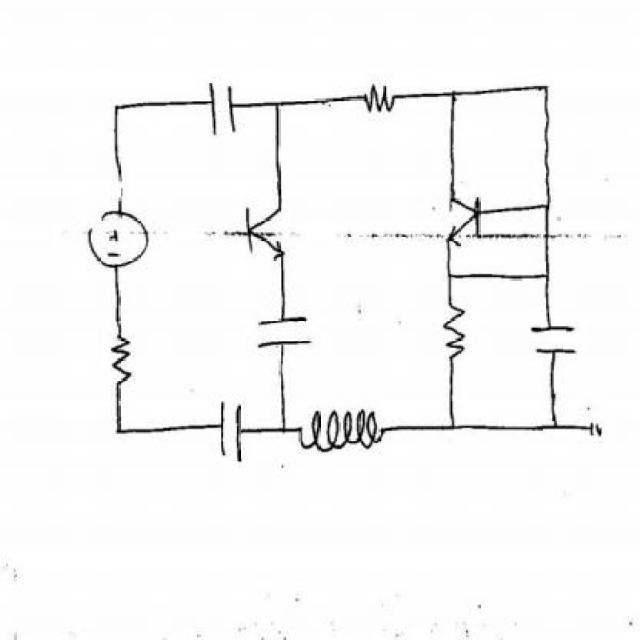capacitor: (203, 396, 257, 464), (528, 308, 584, 371), (203, 76, 245, 146), (249, 310, 318, 352)
ground: (581, 412, 608, 460)
inductor: (295, 398, 396, 458)
resistor: (432, 300, 476, 378), (346, 76, 405, 124), (102, 328, 145, 391)
transistor: (434, 181, 488, 253), (240, 198, 295, 268)
voltage_source: (88, 205, 156, 277)
